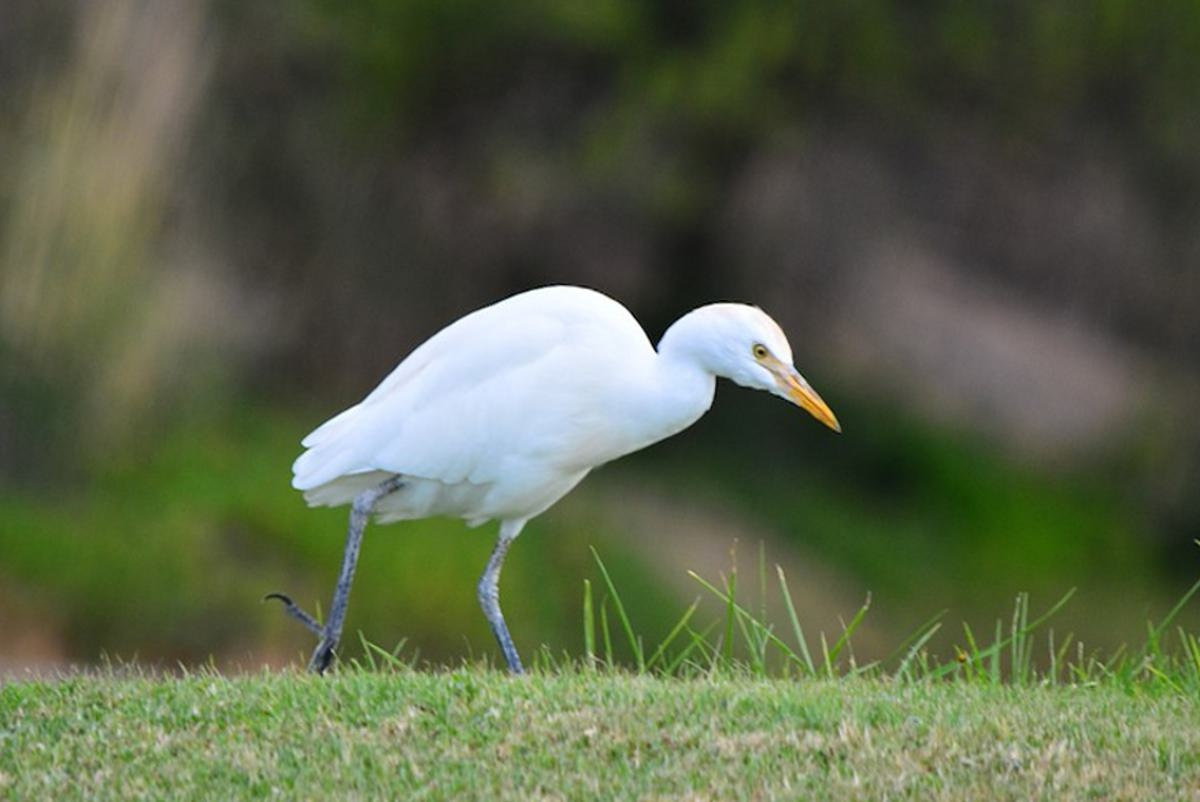egret: (255, 291, 862, 703)
